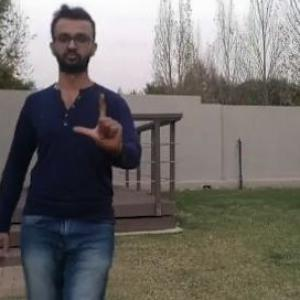land_hand: (75, 89, 133, 158)
